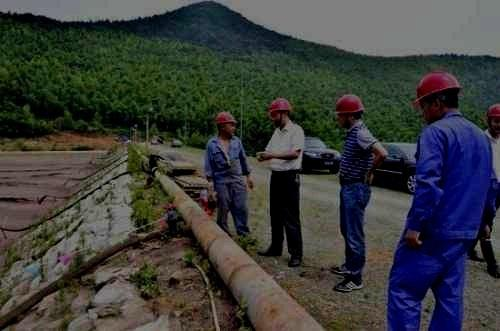helmet: (412, 69, 463, 124), (332, 93, 365, 128), (268, 96, 292, 127), (215, 110, 237, 137), (485, 102, 500, 133)
